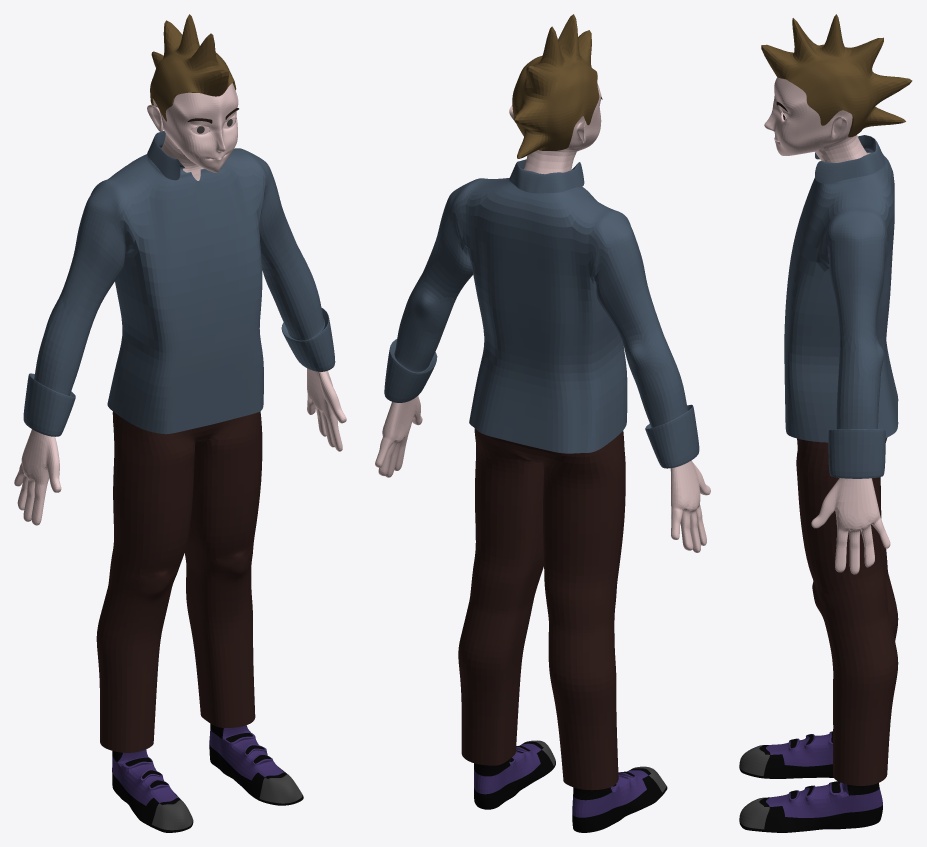
File: irokez_koszula.fbx
The picture shows the model from 3 angles, left to right: view 1: azimuth 30°, elevation 25°; view 2: azimuth 150°, elevation 25°; view 3: azimuth 270°, elevation 25°; orthographic projection.
Parts seen in each view (by area): view 1: ShirtCLOSED, Pants, Body, Shoes, Hair_random2; view 2: ShirtCLOSED, Pants, Hair_random2, Shoes, Body; view 3: ShirtCLOSED, Pants, Shoes, Body, Hair_random2.
Boxes of the visible parts, x1,y1,x2,y2 form: ShirtCLOSED: (23,131,335,436); Pants: (96,411,262,752); Body: (14,83,346,525); Shoes: (112,723,303,832); Hair_random2: (150,14,236,121); ShirtCLOSED: (384,159,699,468); Pants: (458,428,625,790); Hair_random2: (512,14,599,158); Shoes: (474,740,667,832); Body: (375,83,710,552); ShirtCLOSED: (784,135,898,478); Pants: (796,438,898,785); Shoes: (739,731,882,832); Body: (764,77,890,574); Hair_random2: (761,14,912,137).
Bounding box in the file's own units: 80.87 × 191 × 38.31.
